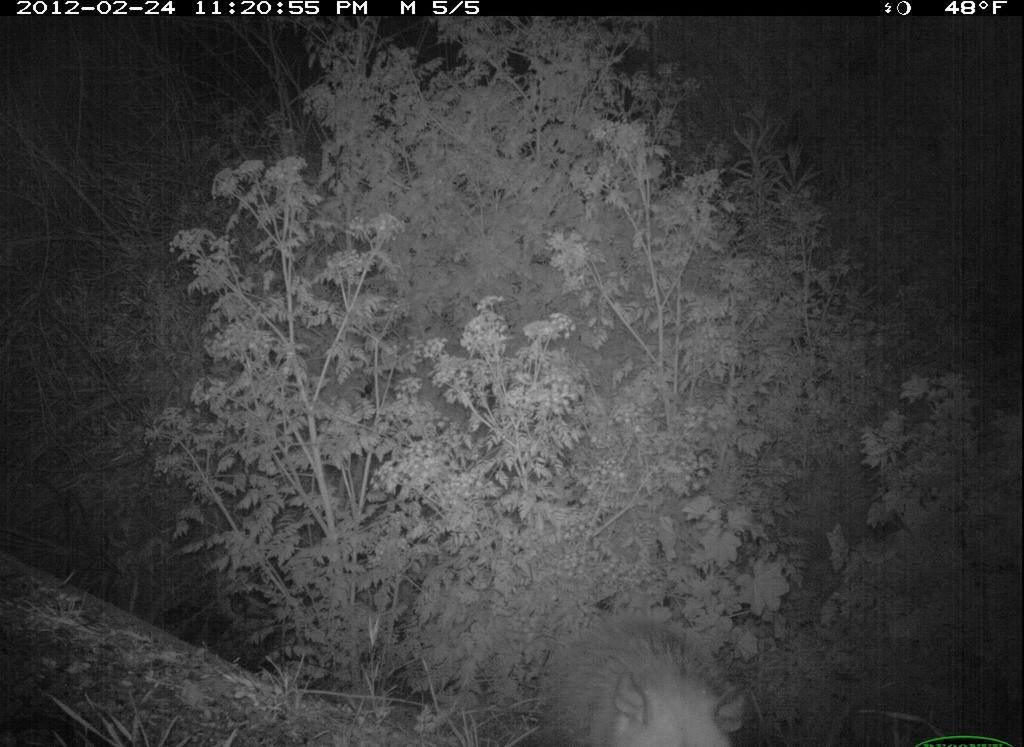opossum: (527, 607, 761, 747)
